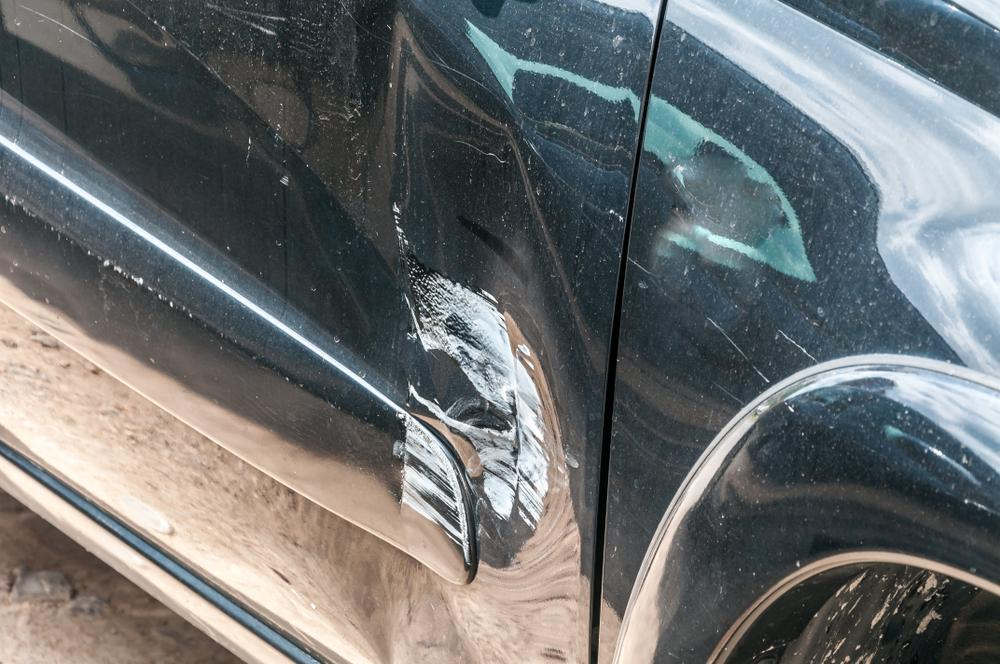dent: (391, 23, 565, 573)
scratch: (398, 412, 480, 558)
